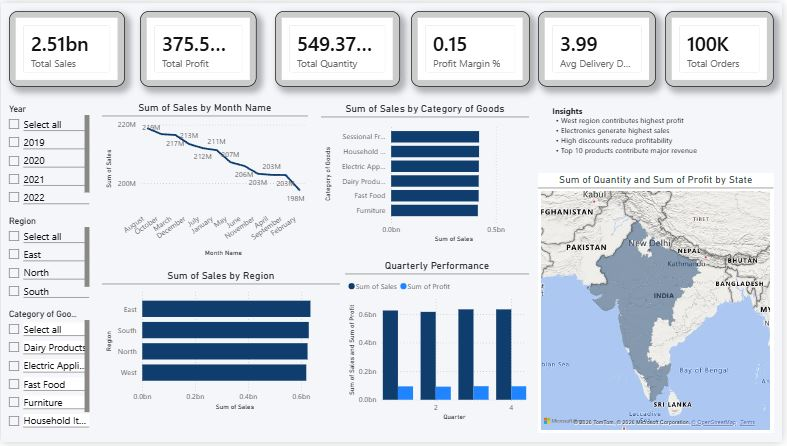

The page's visual inventory and layout, read from the dashboard file:
{"tool":"powerbi","page":{"name":"Excutive overview","canvas":[1280,720],"ordinal":0},"visuals":[{"type":"lineChart","fields":{"Y":["Sum(store_sales_data (2) (1).Sales)"],"Category":["store_sales_data (2) (1).Month Name"]},"box":[166.3,161.3,337.6,258.7],"z":0},{"type":"cardVisual","fields":{"Data":["store_sales_data (2) (1).Total Sales"]},"box":[13.4,13.4,189.8,124.3],"z":1000},{"type":"cardVisual","fields":{"Data":["store_sales_data (2) (1).Total Profit"]},"box":[228.5,13.4,191.5,124.3],"z":2000},{"type":"cardVisual","fields":{"Data":["store_sales_data (2) (1).Total Quantity"]},"box":[448.5,13.4,204.9,124.3],"z":3000},{"type":"cardVisual","fields":{"Data":["store_sales_data (2) (1).Profit Margin %"]},"box":[671.9,13.4,194.9,124.3],"z":4000},{"type":"cardVisual","fields":{"Data":["store_sales_data (2) (1).Avg Delivery Days"]},"box":[880.2,13.4,193.2,124.3],"z":5000},{"type":"clusteredBarChart","fields":{"Category":["store_sales_data (2) (1).Region"],"Y":["Sum(store_sales_data (2) (1).Sales)"]},"box":[165.8,436.5,389.8,235.3],"z":6000},{"type":"filledMap","fields":{"Category":["store_sales_data (2) (1).State"]},"box":[880.2,278.8,386.4,425],"z":7000},{"type":"cardVisual","fields":{"Data":["store_sales_data (2) (1).Total Orders"]},"box":[1088.5,13.4,178.1,124.3],"z":8000},{"type":"clusteredColumnChart","title":"Quarterly Performance","fields":{"Category":["store_sales_data (2) (1).Quarter"],"Y":["Sum(store_sales_data (2) (1).Sales)","Sum(store_sales_data (2) (1).Profit)"]},"box":[564.4,419.9,302.4,268.8],"z":9000},{"type":"slicer","fields":{"Values":["store_sales_data (2) (1).Year"]},"box":[0,161.3,149.5,179.7],"z":10000},{"type":"slicer","fields":{"Values":["store_sales_data (2) (1).Region"]},"box":[0,344.4,149.5,149.5],"z":11000},{"type":"slicer","fields":{"Values":["store_sales_data (2) (1).Category of Goods"]},"box":[0,497.2,149.5,206.6],"z":12000},{"type":"clusteredBarChart","fields":{"Category":["store_sales_data (2) (1).Category of Goods"],"Y":["Sum(store_sales_data (2) (1).Sales)"]},"box":[524.6,162.3,341,234.4],"z":13000},{"type":"textbox","box":[894.3,161.6,343,95],"z":14000}]}

Visuals, with their boxes in screenshot pixels (x1, y1, x2, y2), scaled from the page's 1280x720 canvas onto the 787x446 screenshot:
lineChart - Sum(store_sales_data (2) (1).Sales) x store_sales_data (2) (1).Month Name: detection(102, 100, 310, 260)
cardVisual - store_sales_data (2) (1).Total Sales: detection(8, 8, 125, 85)
cardVisual - store_sales_data (2) (1).Total Profit: detection(140, 8, 258, 85)
cardVisual - store_sales_data (2) (1).Total Quantity: detection(276, 8, 402, 85)
cardVisual - store_sales_data (2) (1).Profit Margin %: detection(413, 8, 533, 85)
cardVisual - store_sales_data (2) (1).Avg Delivery Days: detection(541, 8, 660, 85)
clusteredBarChart - store_sales_data (2) (1).Region x Sum(store_sales_data (2) (1).Sales): detection(102, 270, 342, 416)
filledMap - store_sales_data (2) (1).State: detection(541, 173, 779, 436)
cardVisual - store_sales_data (2) (1).Total Orders: detection(669, 8, 779, 85)
"Quarterly Performance" clusteredColumnChart: detection(347, 260, 533, 427)
slicer - store_sales_data (2) (1).Year: detection(0, 100, 92, 211)
slicer - store_sales_data (2) (1).Region: detection(0, 213, 92, 306)
slicer - store_sales_data (2) (1).Category of Goods: detection(0, 308, 92, 436)
clusteredBarChart - store_sales_data (2) (1).Category of Goods x Sum(store_sales_data (2) (1).Sales): detection(323, 101, 532, 246)
textbox: detection(550, 100, 761, 159)
